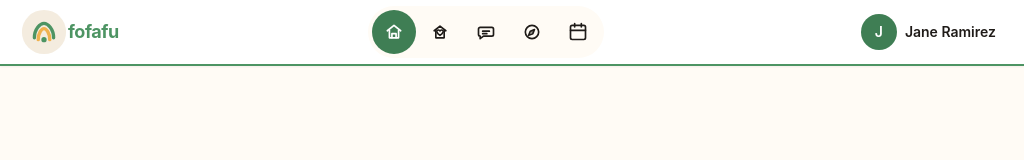
Test: Navbar — Option B grouped track › avatar + name chip replaces the name/location/sign-out cluster › closes the reveal on Escape
The image size is (1024, 160).
Click the button "J Jane Ramirez" at (928, 32), box [853, 10, 1004, 54]
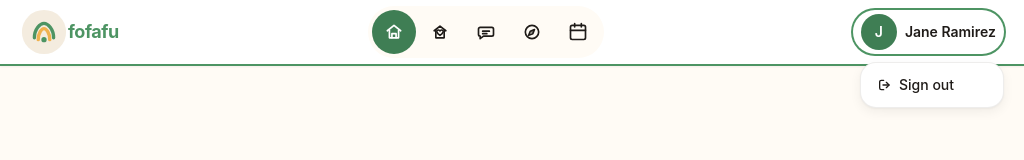
expect the button "Sign out" is shown: met, box [865, 67, 999, 103]
Press Escape
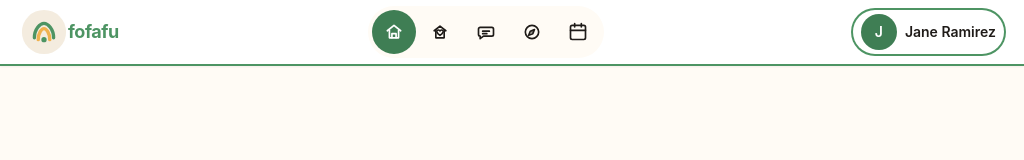
expect the button "Sign out" is gone: met
